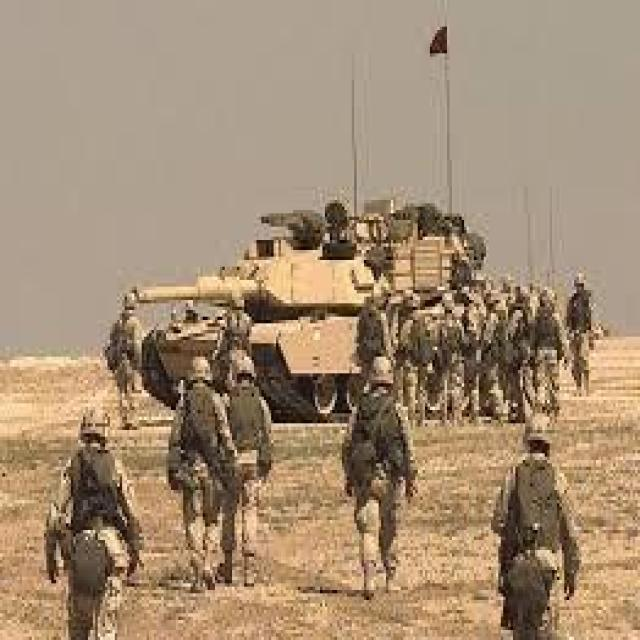MIL_MBT: (21, 87, 546, 467)
